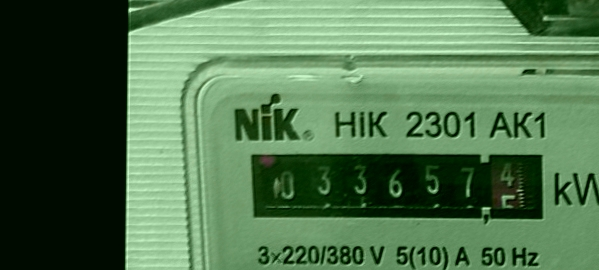0: (277, 167, 298, 204)
3: (315, 163, 334, 198), (351, 162, 369, 198)
4: (498, 159, 517, 189)
5: (421, 161, 443, 198)
6: (385, 166, 405, 201)
7: (458, 164, 476, 200)
screen: (238, 144, 552, 230)
